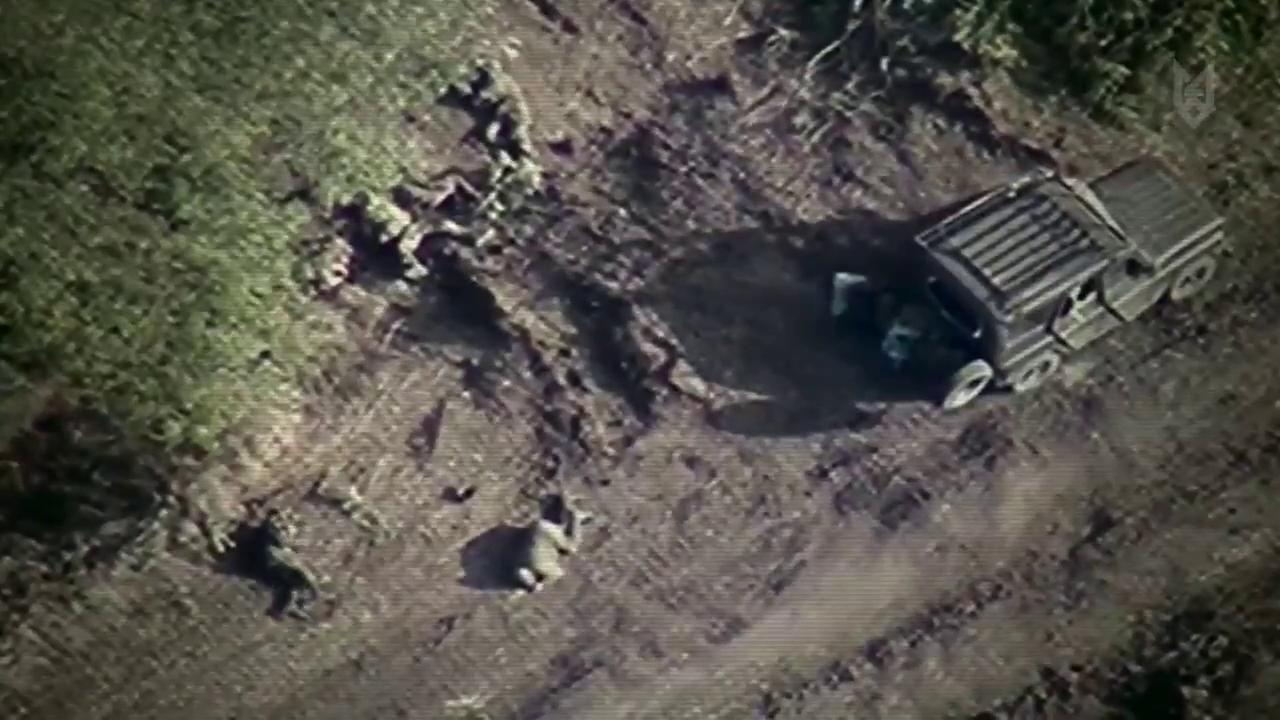tank: (928, 153, 1223, 398)
